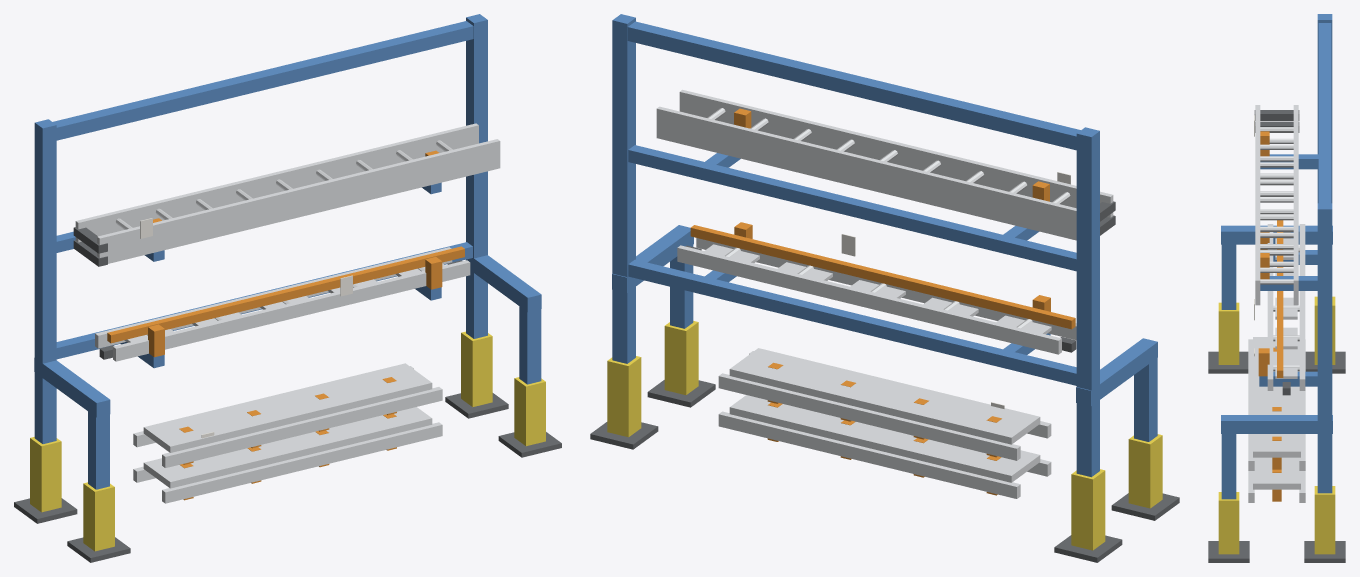
File: tool-hire-depot-and-plant-yard-tool-hire-depot-and-pla-1b8a64c2__35320.glb
The picture shows the model from 3 angles, left to right: view 1: azimuth 30°, elevation 25°; view 2: azimuth 150°, elevation 25°; view 3: azimuth 270°, elevation 25°; orthographic projection. The views are drawn at different scales.
Visible parts, largest first — view 1: tool-hire-depot-and-plant-yard-ladder-rack-with-ladders; view 2: tool-hire-depot-and-plant-yard-ladder-rack-with-ladders; view 3: tool-hire-depot-and-plant-yard-ladder-rack-with-ladders.
Boxes of the visible parts, x1,y1,x2,y2 form: tool-hire-depot-and-plant-yard-ladder-rack-with-ladders: (14, 14, 561, 562); tool-hire-depot-and-plant-yard-ladder-rack-with-ladders: (590, 14, 1179, 562); tool-hire-depot-and-plant-yard-ladder-rack-with-ladders: (1208, 14, 1345, 562).
Bounding box in the file's own units: 3.06 × 2.4 × 0.86.
